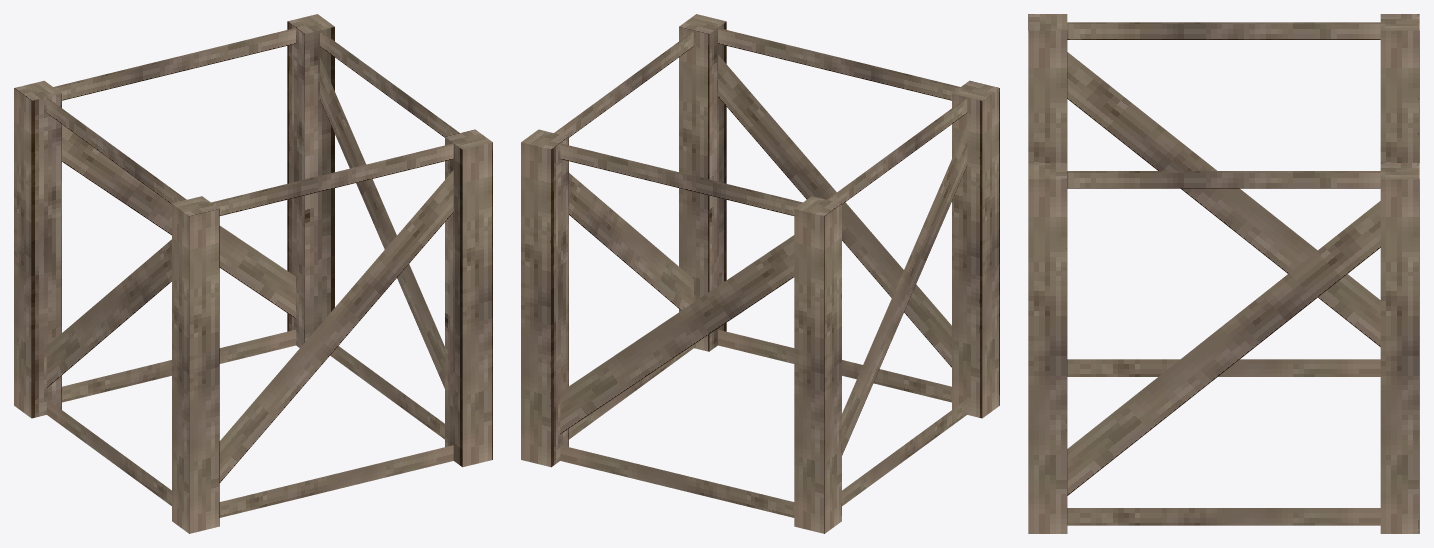
File: kenney-retro-fantasy-structure-cross.glb
3 renders of one model, left to right at view 1: azimuth 30°, elevation 25°; view 2: azimuth 150°, elevation 25°; view 3: azimuth 270°, elevation 25°, orthographic. The views are drawn at different scales.
Parts seen in each view (by area): view 1: structure-cross; view 2: structure-cross; view 3: structure-cross.
Part boxes in pixels (bbox=[...]): structure-cross: bbox=[14, 14, 492, 533]; structure-cross: bbox=[521, 14, 999, 533]; structure-cross: bbox=[1028, 14, 1419, 533].
Size of the model in its own units: 1 by 1 by 1.
Materials: 1 (1 with a texture image).
